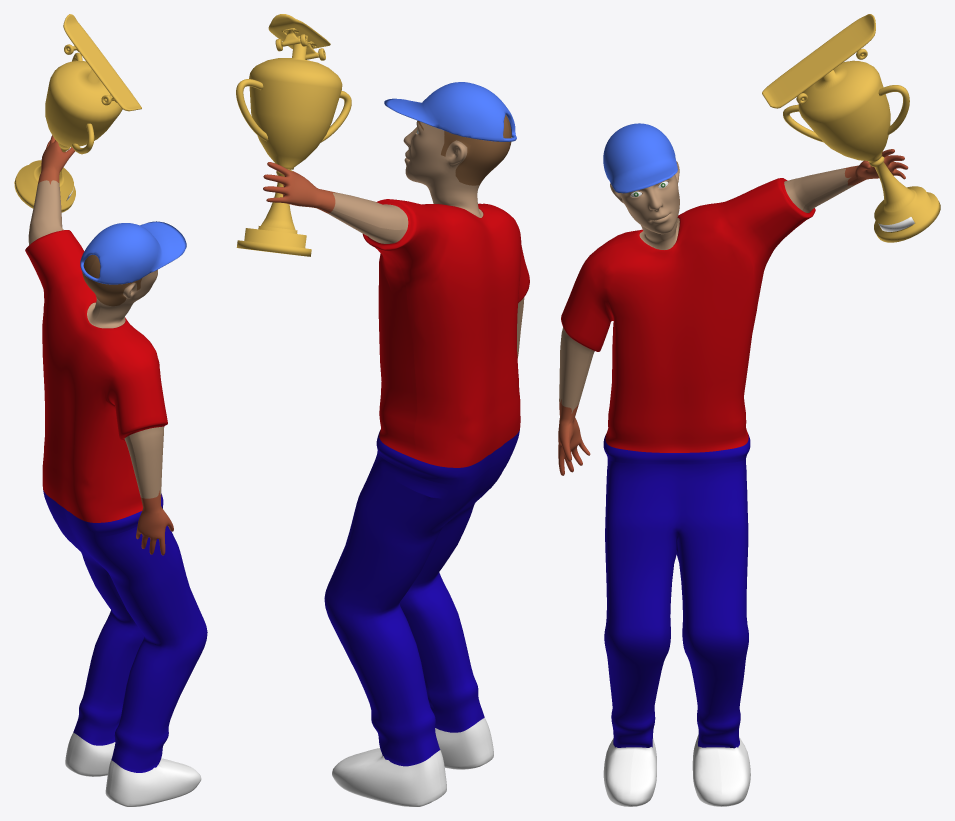
The model's file is PersonajePoseVictoria.fbx.
3 renders of one model, left to right at view 1: azimuth 30°, elevation 25°; view 2: azimuth 150°, elevation 25°; view 3: azimuth 270°, elevation 25°, orthographic. The views are drawn at different scales.
Visible parts, largest first — view 1: Cuerpo completo smooth.003; view 2: Cuerpo completo smooth.003; view 3: Cuerpo completo smooth.003.
Boxes of the visible parts, <box> form: Cuerpo completo smooth.003: <box>14,14,207,806</box>; Cuerpo completo smooth.003: <box>236,14,529,806</box>; Cuerpo completo smooth.003: <box>558,14,940,806</box>.
Size of the model in its own units: 40 by 200 by 88.23.
